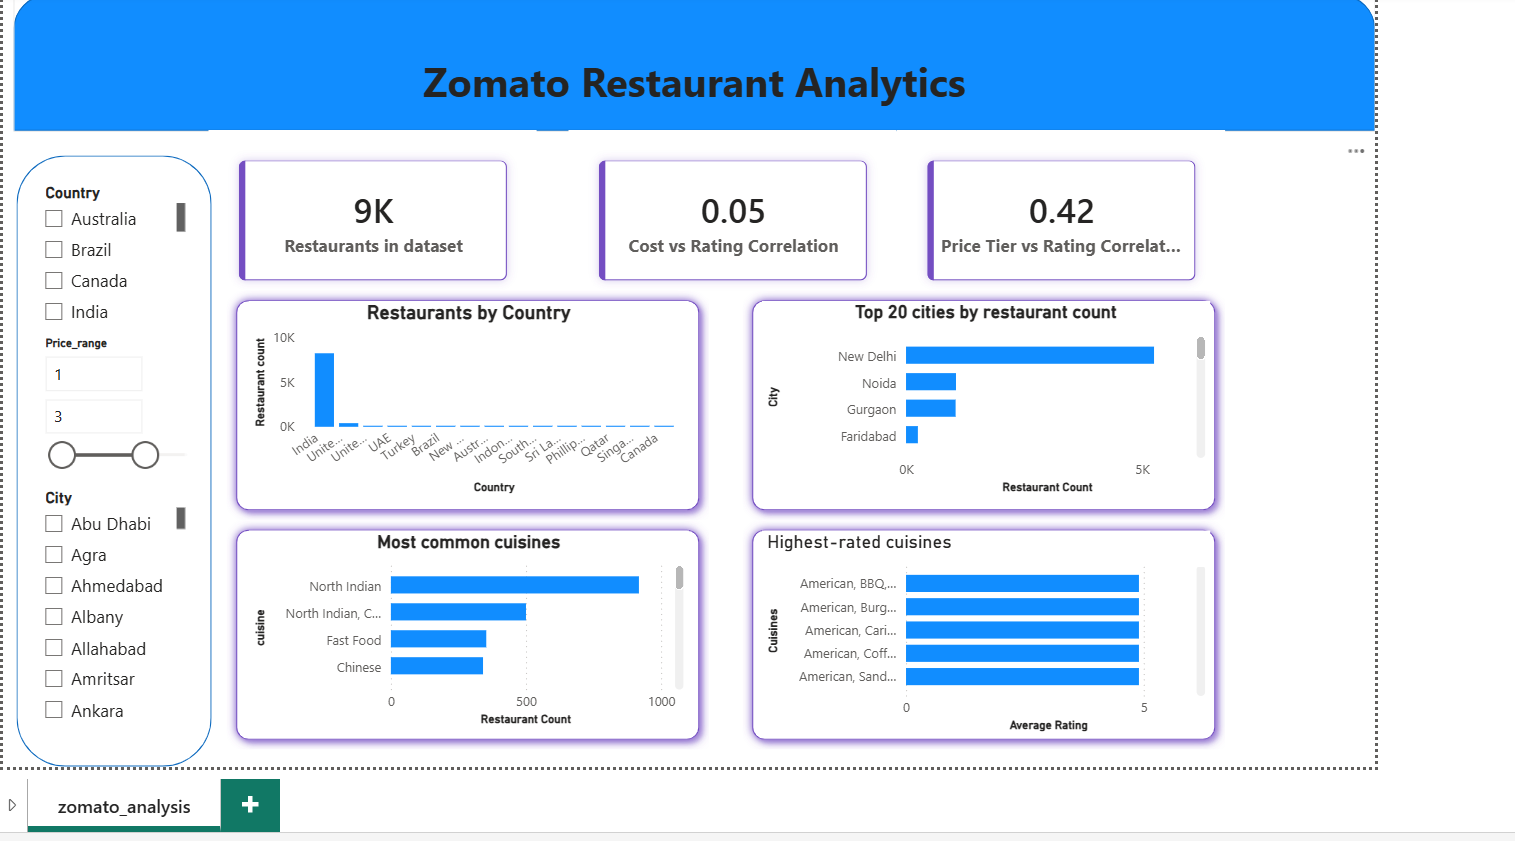

What the dashboard file says about the page in this screenshot:
{"tool":"powerbi","page":{"name":"Page 1","canvas":[1280,720],"ordinal":0},"visuals":[{"type":"shape","box":[9.4,0,1269.9,126.6],"z":0},{"type":"textbox","box":[9.4,0,1269.9,126.6],"z":1000},{"type":"cardVisual","fields":{"Data":["zomato.Restaurant Count"]},"box":[192,126,306,168],"z":2000},{"type":"cardVisual","fields":{"Data":["zomato.Cost vs Rating Correlation"]},"box":[528,126,306,168],"z":3000},{"type":"cardVisual","fields":{"Data":["zomato.Price Tier vs Rating Correlation"]},"box":[834,126,306,168],"z":4000},{"type":"shape","box":[208,276,450,214],"z":5000},{"type":"shape","box":[690,276,450,214],"z":6000},{"type":"shape","box":[208,490,450,214],"z":7000},{"type":"shape","box":[690,490,450,214],"z":8000},{"type":"clusteredColumnChart","title":"Restaurants  by Country","fields":{"Category":["code.Country"],"Y":["zomato.Restaurant Count"]},"box":[230,286,410,184],"z":9000},{"type":"clusteredBarChart","title":"Top 20 cities by restaurant count","fields":{"Category":["zomato.City"],"Y":["zomato.Restaurant Count"]},"box":[708,286,418,184],"z":10000},{"type":"clusteredBarChart","title":"Most common cuisines","fields":{"Category":["zomato.Cuisines"],"Y":["zomato.Restaurant Count"]},"box":[230,500,410,186],"z":11000},{"type":"clusteredBarChart","title":"Highest-rated cuisines","fields":{"Category":["zomato.Cuisines"],"Y":["zomato.Average Rating"]},"box":[708,500,418,192],"z":12000},{"type":"shape","box":[12,150,182,570],"z":13000},{"type":"slicer","fields":{"Values":["code.Country"]},"box":[26,170,148,138],"z":14000},{"type":"slicer","fields":{"Values":["zomato.Price_range"]},"box":[26,314,166,140],"z":15000},{"type":"slicer","fields":{"Values":["zomato.City"]},"box":[26,454,148,232],"z":15001}]}

Visuals, with their boxes on the page's 1280x720 design canvas (x1, y1, x2, y2). These are canvas units, not pixel positions in the 1515x841 screenshot, which may show the page scaled, cropped or inside an application window:
shape: select_region(9, 0, 1279, 127)
textbox: select_region(9, 0, 1279, 127)
cardVisual - zomato.Restaurant Count: select_region(192, 126, 498, 294)
cardVisual - zomato.Cost vs Rating Correlation: select_region(528, 126, 834, 294)
cardVisual - zomato.Price Tier vs Rating Correlation: select_region(834, 126, 1140, 294)
shape: select_region(208, 276, 658, 490)
shape: select_region(690, 276, 1140, 490)
shape: select_region(208, 490, 658, 704)
shape: select_region(690, 490, 1140, 704)
"Restaurants  by Country" clusteredColumnChart: select_region(230, 286, 640, 470)
"Top 20 cities by restaurant count" clusteredBarChart: select_region(708, 286, 1126, 470)
"Most common cuisines" clusteredBarChart: select_region(230, 500, 640, 686)
"Highest-rated cuisines" clusteredBarChart: select_region(708, 500, 1126, 692)
shape: select_region(12, 150, 194, 720)
slicer - code.Country: select_region(26, 170, 174, 308)
slicer - zomato.Price_range: select_region(26, 314, 192, 454)
slicer - zomato.City: select_region(26, 454, 174, 686)
